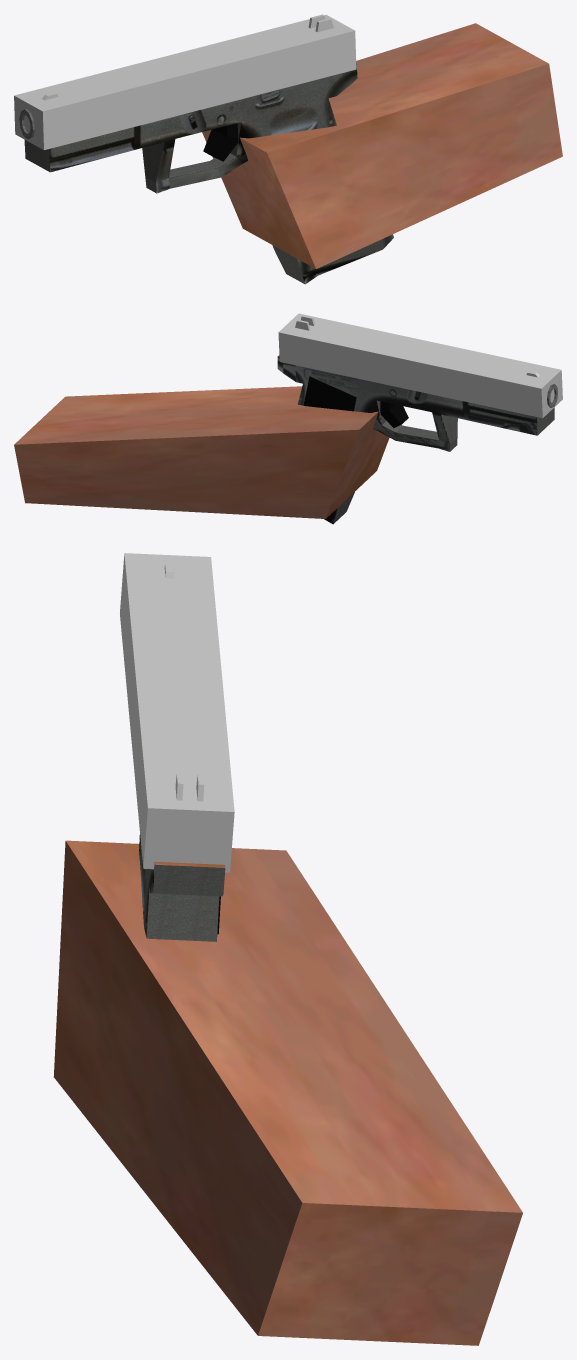
The model's file is pistol_000018.obj.
3 views of the same model, one above another, from view 1: azimuth 30°, elevation 25°; view 2: azimuth 150°, elevation 25°; view 3: azimuth 270°, elevation 25° (orthographic). The views are drawn at different scales.
Visible parts, largest first — view 1: Cube, Cube.001, Cube.003; view 2: Cube, Cube.001, Cube.002, Cube.003; view 3: Cube, Cube.001.
Part boxes in pixels (x1,y1,x2,y2): Cube: (19, 23, 562, 284); Cube.001: (14, 14, 356, 150); Cube.003: (203, 123, 238, 161); Cube: (14, 355, 557, 524); Cube.001: (278, 313, 562, 418); Cube.002: (303, 376, 356, 521); Cube.003: (380, 401, 408, 427); Cube: (53, 835, 522, 1345); Cube.001: (120, 553, 234, 872).
Size of the model in its own units: 1.73 by 0.7242 by 0.7741.
